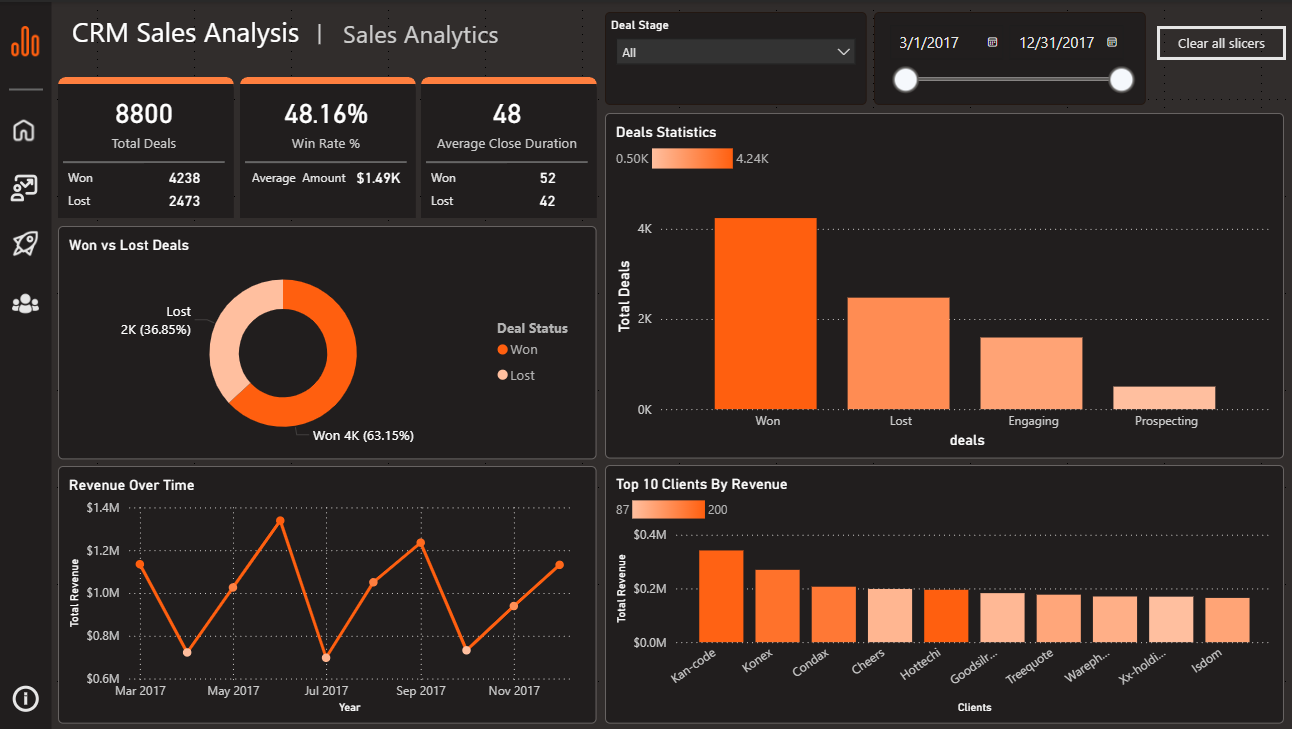

The dashboard page shown, as its layout file describes it:
{"tool":"powerbi","page":{"name":"Sales Analytics","canvas":[1280,720],"ordinal":1},"visuals":[{"type":"shape","box":[0,0,51.5,720.5],"z":0},{"type":"shape","box":[57.6,74.1,174.2,14.8],"z":0,"group":"g1"},{"type":"shape","box":[237.5,74.2,174.2,14.8],"z":0,"group":"g2"},{"type":"shape","box":[417.1,74.3,174.2,14.8],"z":0,"group":"g3"},{"type":"image","box":[8.3,23.7,34.1,35.1],"z":1000},{"type":"shape","box":[57.6,81,174.2,132.6],"z":1000,"group":"g1"},{"type":"shape","box":[237.5,81.1,174.2,132.6],"z":1000,"group":"g2"},{"type":"shape","box":[417.1,81.2,174.2,132.6],"z":1000,"group":"g3"},{"type":"card","title":"Total Deals","fields":{"Values":["_measures.Total Deals"]},"box":[71.7,82.5,142.5,71.3],"z":2000,"group":"g1"},{"type":"card","title":"Total Deals","fields":{"Values":["_measures.Win Rate %"]},"box":[251.6,82.6,142.5,71.3],"z":2000,"group":"g2"},{"type":"card","title":"Total Deals","fields":{"Values":["_measures.Average Close Duration"]},"box":[431.2,82.7,142.5,71.3],"z":2000,"group":"g3"},{"type":"actionButton","box":[8.3,668.9,35.1,41.3],"z":2000},{"type":"actionButton","box":[5.9,109.9,35,35],"z":3000},{"type":"shape","box":[62.6,152.2,160,12.2],"z":3000,"group":"g1"},{"type":"shape","box":[242.5,152.3,160,12.2],"z":3000,"group":"g2"},{"type":"shape","box":[422.1,152.4,160,12.2],"z":3000,"group":"g3"},{"type":"card","title":"Total Deals","fields":{"Values":["_measures.Won Deals"]},"box":[143,158.8,80.2,23.1],"z":4000,"group":"g1"},{"type":"card","title":"Total Deals","fields":{"Values":["_measures.Average Close Duration"]},"box":[502.5,159,80.2,23.1],"z":4000,"group":"g3"},{"type":"card","title":"Total Deals","fields":{"Values":["Avg(Sales Pipeline.close_value)"]},"box":[346.8,159.1,56.4,22.8],"z":4000,"group":"g2"},{"type":"actionButton","box":[7.9,169.5,35,35],"z":4000},{"type":"shape","box":[8.9,79.2,33.6,14.8],"z":5000},{"type":"card","title":"Total Deals","fields":{"Values":["_measures.Lost Deals"]},"box":[143,181.8,80.2,23.1],"z":5000,"group":"g1"},{"type":"card","title":"Total Deals","fields":{"Values":["_measures.Average Close Duration"]},"box":[502.5,182,80.2,23.1],"z":5000,"group":"g3"},{"type":"textbox","box":[62.8,158.8,80.2,30.1],"z":6000,"group":"g1"},{"type":"textbox","box":[422.3,159,80.2,30.1],"z":6000,"group":"g3"},{"type":"textbox","box":[244.9,159.1,115.8,29.7],"z":6000,"group":"g2"},{"type":"actionButton","box":[5.9,231.1,35,35],"z":6000},{"type":"textbox","box":[62.8,181.8,80.2,30.1],"z":7000,"group":"g1"},{"type":"textbox","box":[422.3,182,80.2,30.1],"z":7000,"group":"g3"},{"type":"actionButton","box":[5.9,295.7,35,35],"z":7000},{"type":"actionButton","box":[5.9,360.2,35,35],"z":8000},{"type":"textbox","box":[66.3,5.9,245.4,45.5],"z":9000},{"type":"actionButton","box":[1145.1,23.8,127.7,33.6],"z":10000},{"type":"textbox","box":[334.5,10,176.2,43.5],"z":11000},{"type":"shape","box":[310,22,12.9,20],"z":12000},{"type":"group","id":"g1","title":"Multi Card","box":[57.6,74.1,173.7,139.9],"z":13000},{"type":"columnChart","title":"Deals Statistics","fields":{"Y":["_measures.Total Deals"],"Category":["Sales Pipeline.deal_stage"]},"box":[598.8,109.9,672,342.4],"z":14000},{"type":"lineChart","title":"Revenue Over Time","fields":{"Y":["_measures.Total Revenue"],"Category":["Calendar.Date.Variation.Date Hierarchy.Year","Calendar.Date.Variation.Date Hierarchy.Quarter","Calendar.Date.Variation.Date Hierarchy.Month","Calendar.Date.Variation.Date Hierarchy.Day"]},"box":[57.4,459.2,533.4,255.3],"z":15000},{"type":"donutChart","title":"Won vs Lost Deals","fields":{"Y":["_measures.Total Deals"],"Category":["Sales Pipeline.deal_stage"]},"box":[57.4,221.7,533.4,230.6],"z":16000},{"type":"columnChart","title":"Top 10 Accounts By Revenue","fields":{"Y":["_measures.Total Revenue"],"Category":["Accounts.account"]},"box":[598.8,458.2,672,256.3],"z":17000},{"type":"group","id":"g2","title":"Multi Card","box":[237.5,74.2,174.2,139.5],"z":18000},{"type":"group","id":"g3","title":"Multi Card","box":[417.1,74.3,173.7,139.4],"z":19000},{"type":"slicer","fields":{"Values":["Calendar.Date"]},"box":[868,21.8,269.2,81.2],"z":20000},{"type":"slicer","fields":{"Values":["Sales Pipeline.deal_stage"]},"box":[598.8,21.8,265.2,81.2],"z":21000}]}

Visuals, with their boxes on the page's 1280x720 design canvas (x1, y1, x2, y2). These are canvas units, not pixel positions in the 1292x729 screenshot, which may show the page scaled, cropped or inside an application window:
shape: [0, 0, 52, 720]
shape: [58, 74, 232, 89]
shape: [238, 74, 412, 89]
shape: [417, 74, 591, 89]
image: [8, 24, 42, 59]
shape: [58, 81, 232, 214]
shape: [238, 81, 412, 214]
shape: [417, 81, 591, 214]
"Total Deals" card: [72, 82, 214, 154]
"Total Deals" card: [252, 83, 394, 154]
"Total Deals" card: [431, 83, 574, 154]
actionButton: [8, 669, 43, 710]
actionButton: [6, 110, 41, 145]
shape: [63, 152, 223, 164]
shape: [242, 152, 402, 164]
shape: [422, 152, 582, 165]
"Total Deals" card: [143, 159, 223, 182]
"Total Deals" card: [502, 159, 583, 182]
"Total Deals" card: [347, 159, 403, 182]
actionButton: [8, 170, 43, 204]
shape: [9, 79, 42, 94]
"Total Deals" card: [143, 182, 223, 205]
"Total Deals" card: [502, 182, 583, 205]
textbox: [63, 159, 143, 189]
textbox: [422, 159, 502, 189]
textbox: [245, 159, 361, 189]
actionButton: [6, 231, 41, 266]
textbox: [63, 182, 143, 212]
textbox: [422, 182, 502, 212]
actionButton: [6, 296, 41, 331]
actionButton: [6, 360, 41, 395]
textbox: [66, 6, 312, 51]
actionButton: [1145, 24, 1273, 57]
textbox: [334, 10, 511, 54]
shape: [310, 22, 323, 42]
"Multi Card" group: [58, 74, 231, 214]
"Deals Statistics" columnChart: [599, 110, 1271, 452]
"Revenue Over Time" lineChart: [57, 459, 591, 714]
"Won vs Lost Deals" donutChart: [57, 222, 591, 452]
"Top 10 Accounts By Revenue" columnChart: [599, 458, 1271, 714]
"Multi Card" group: [238, 74, 412, 214]
"Multi Card" group: [417, 74, 591, 214]
slicer - Calendar.Date: [868, 22, 1137, 103]
slicer - Sales Pipeline.deal_stage: [599, 22, 864, 103]
